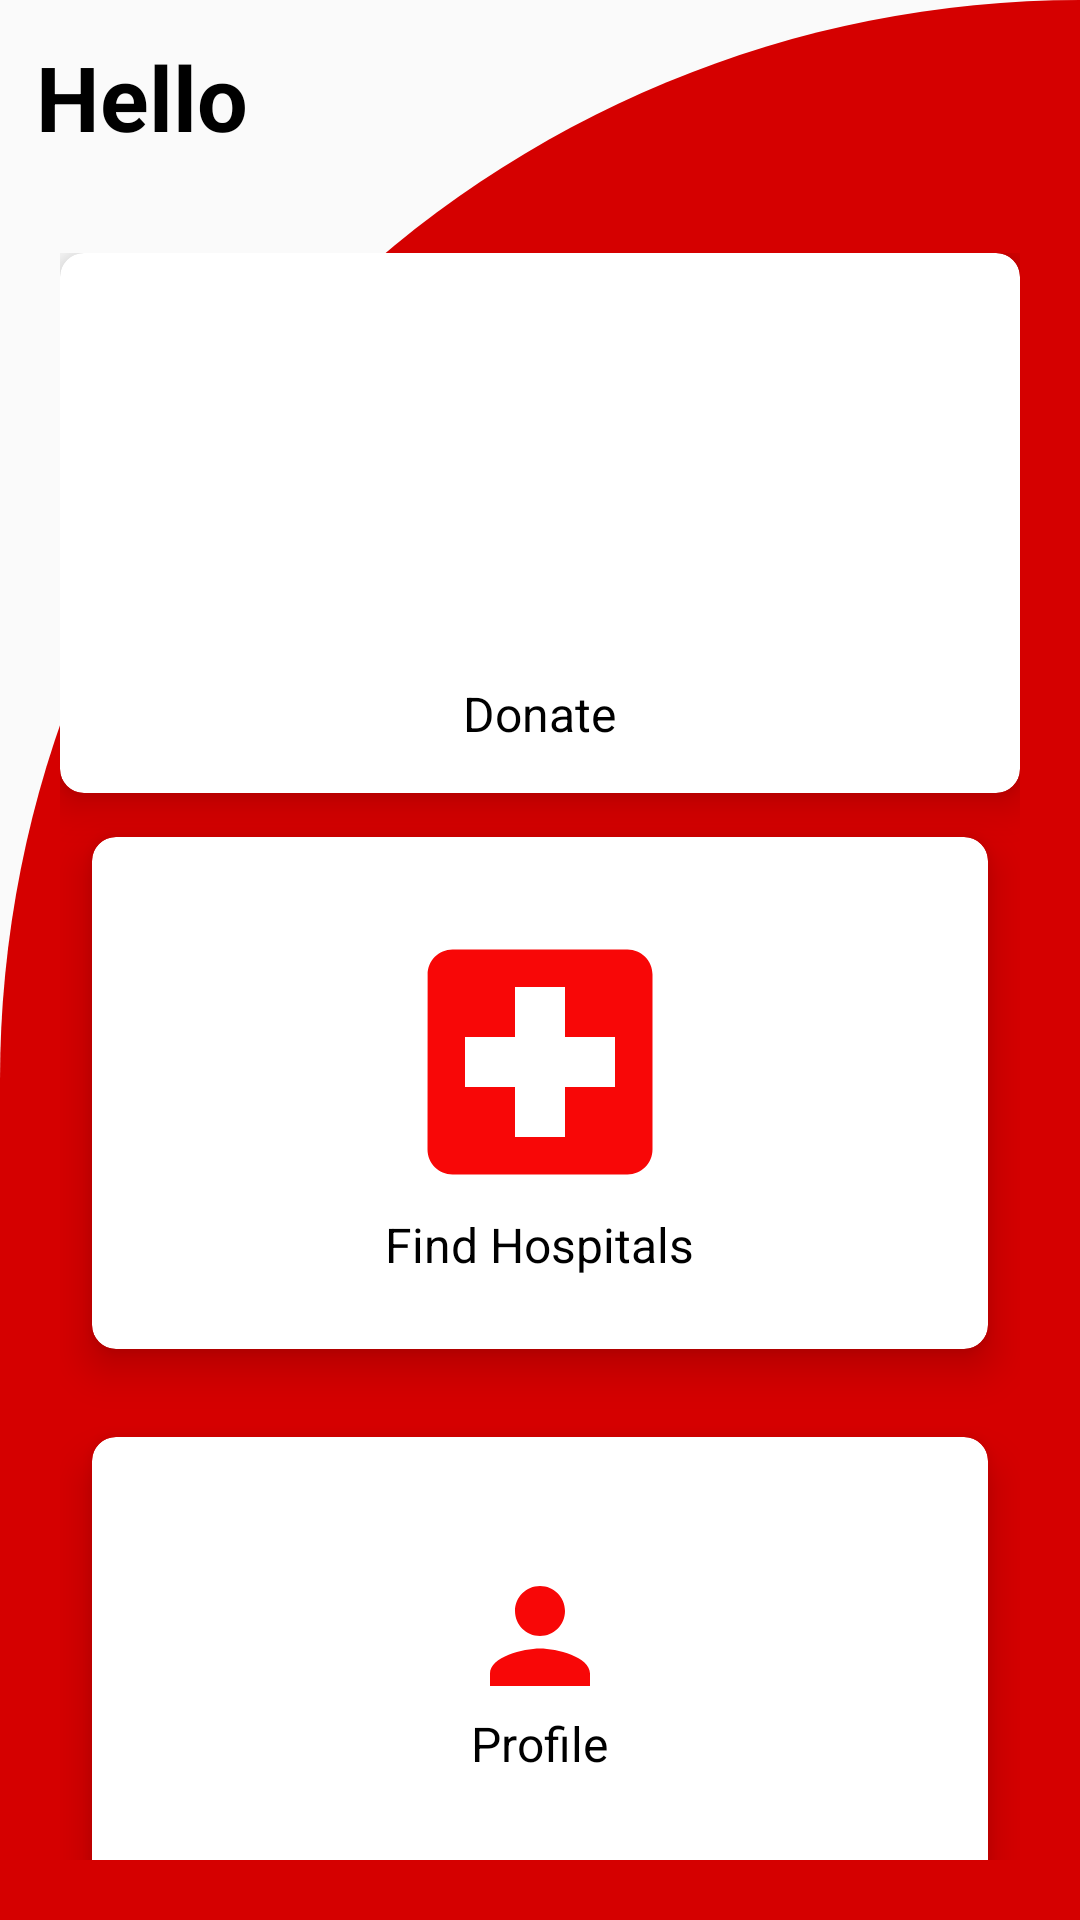

Point at icon controls on the screen. Image size 1080 × 1920, points as point (x, y).
person: point (540, 1636)
